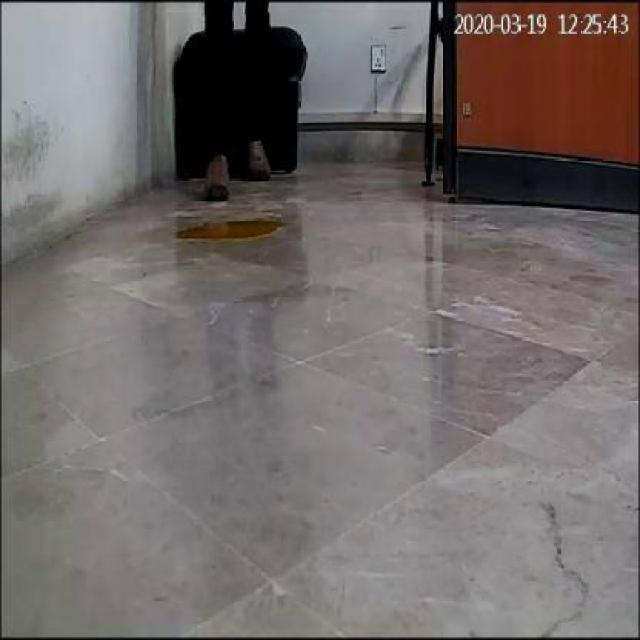spill: (166, 214, 286, 242)
